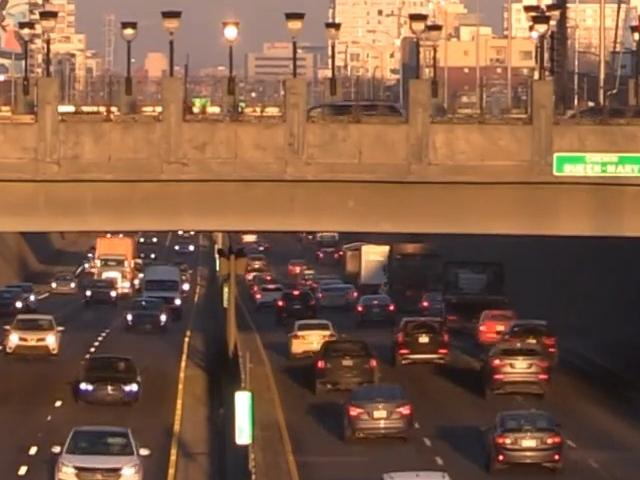car: (483, 406, 573, 480), (47, 421, 151, 480), (340, 380, 417, 450), (308, 336, 378, 400), (479, 342, 554, 400), (70, 355, 147, 409), (391, 312, 453, 374), (8, 312, 61, 360), (500, 319, 558, 358), (286, 319, 339, 361), (308, 280, 358, 316), (305, 102, 395, 122), (273, 286, 319, 325), (474, 309, 518, 347), (123, 298, 172, 332), (355, 291, 397, 325), (407, 291, 446, 325), (244, 272, 284, 305), (82, 273, 122, 305), (0, 282, 38, 314), (55, 103, 122, 118), (334, 241, 364, 274), (453, 93, 483, 117), (49, 274, 78, 295), (137, 234, 161, 259), (75, 253, 100, 277), (316, 245, 345, 265), (238, 241, 268, 260), (241, 104, 283, 117), (242, 256, 268, 275), (312, 232, 339, 249), (285, 261, 310, 279), (171, 240, 194, 255), (503, 358, 531, 370), (299, 231, 323, 244), (239, 232, 259, 247)
truck: (352, 242, 392, 288)
van: (137, 263, 184, 307)
